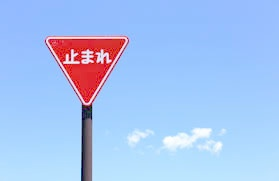Regulatory_sign_triangle: (42, 33, 131, 107)
